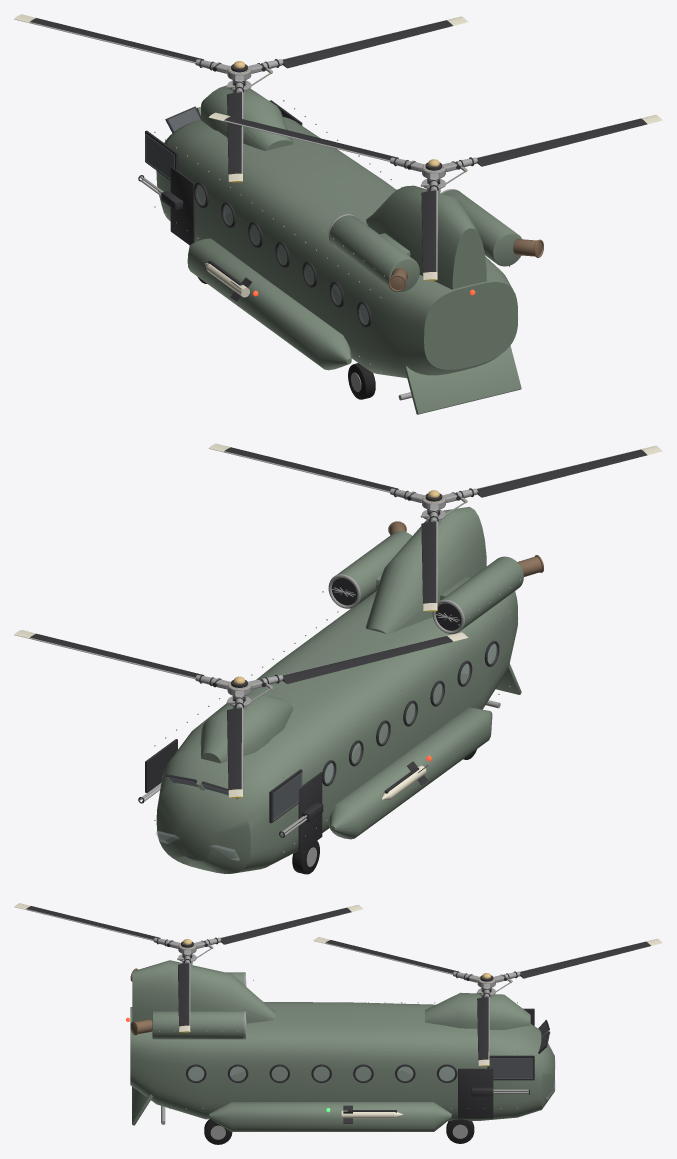
File: mule.glb
The picture shows the model from 3 angles, top to bottom: view 1: azimuth 30°, elevation 25°; view 2: azimuth 150°, elevation 25°; view 3: azimuth 270°, elevation 25°; orthographic projection. The views are drawn at different scales.
Visible parts, largest first — view 1: body, rotor_upper, rotor; view 2: body, rotor, rotor_upper; view 3: body, rotor_upper, rotor.
Part boxes in pixels (left/top/right/bottom): body: left=138, top=80, right=543, bottom=414; rotor_upper: left=208, top=112, right=662, bottom=280; rotor: left=14, top=14, right=467, bottom=182; body: left=138, top=507, right=543, bottom=874; rotor: left=14, top=630, right=468, bottom=798; rotor_upper: left=208, top=443, right=662, bottom=611; body: left=126, top=953, right=555, bottom=1144; rotor_upper: left=14, top=903, right=363, bottom=1032; rotor: left=313, top=937, right=662, bottom=1066.
Bounding box in the file's own units: 6.94 × 4.62 × 14.75.
